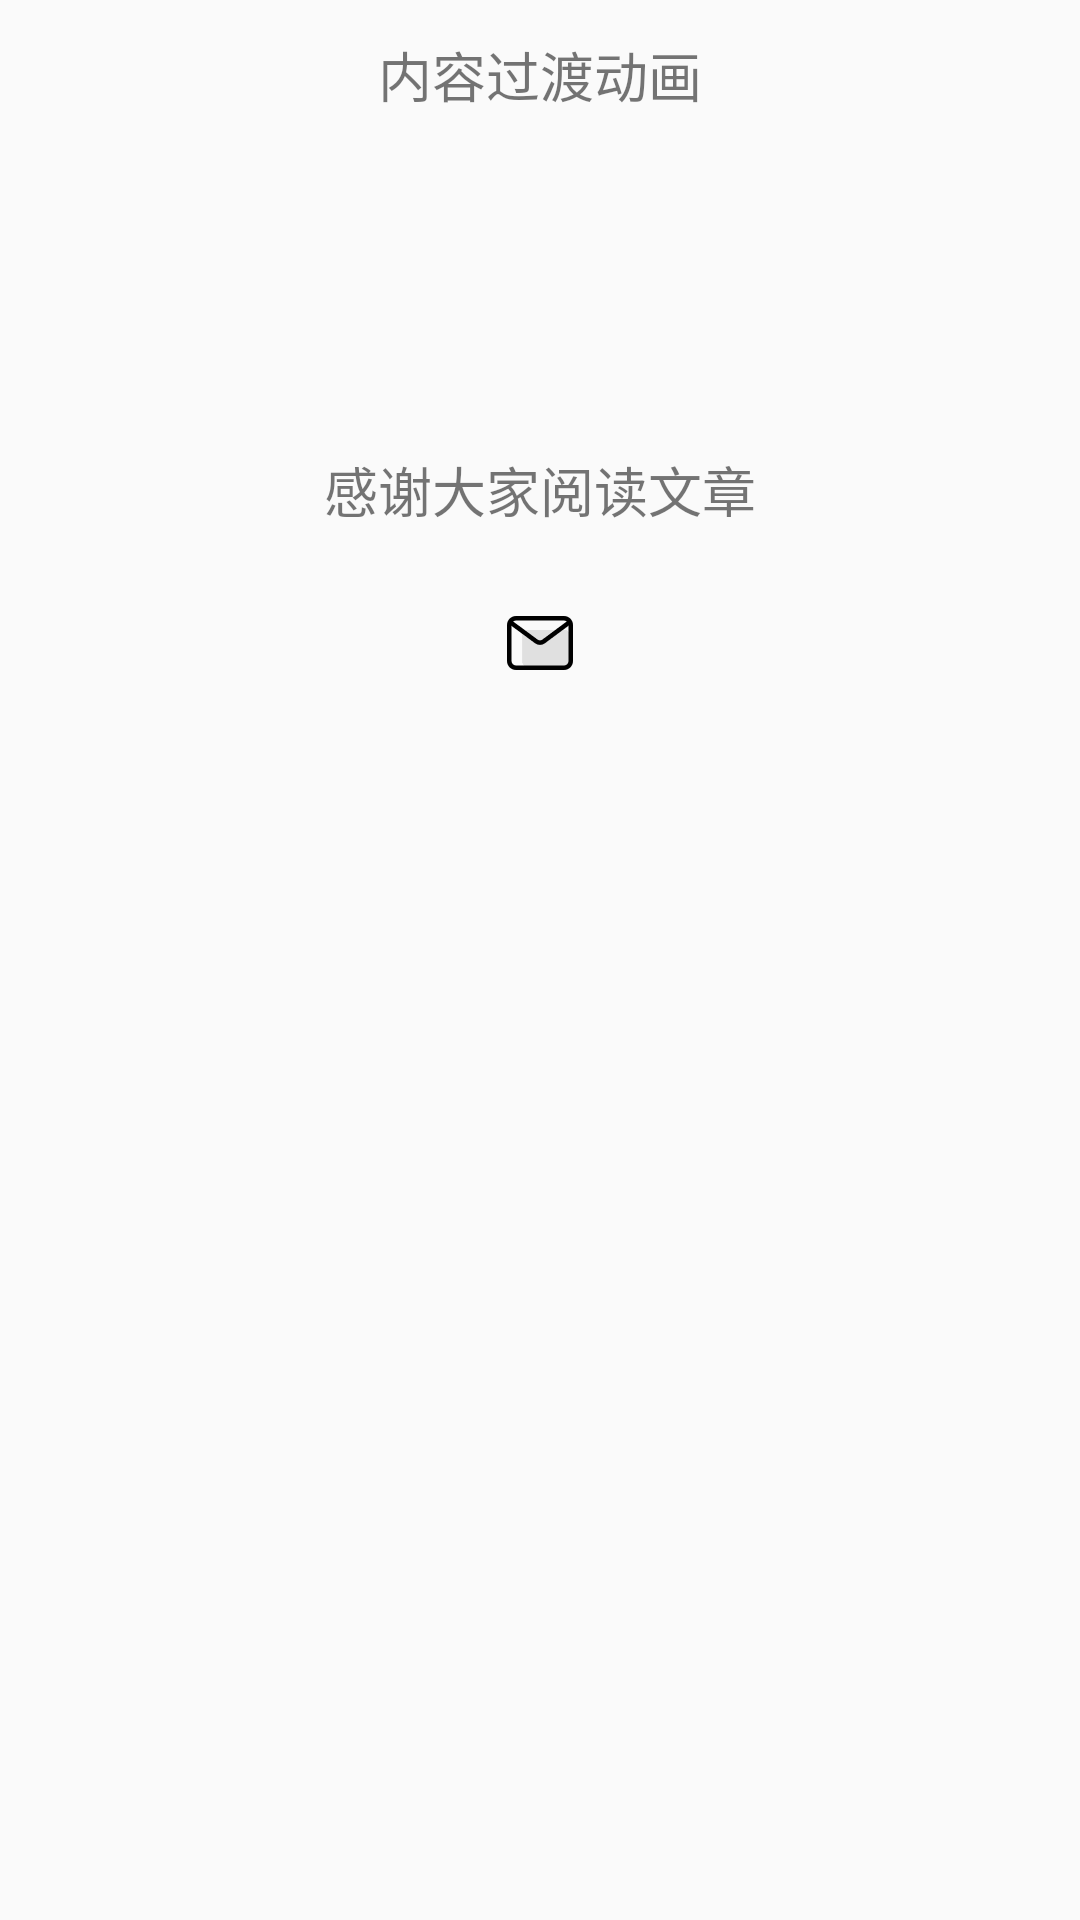

Locate icon controls on the screen. Image size 1080x1920, boxes as (x1, y1, x2, y2).
me message: (507, 616, 573, 670)
